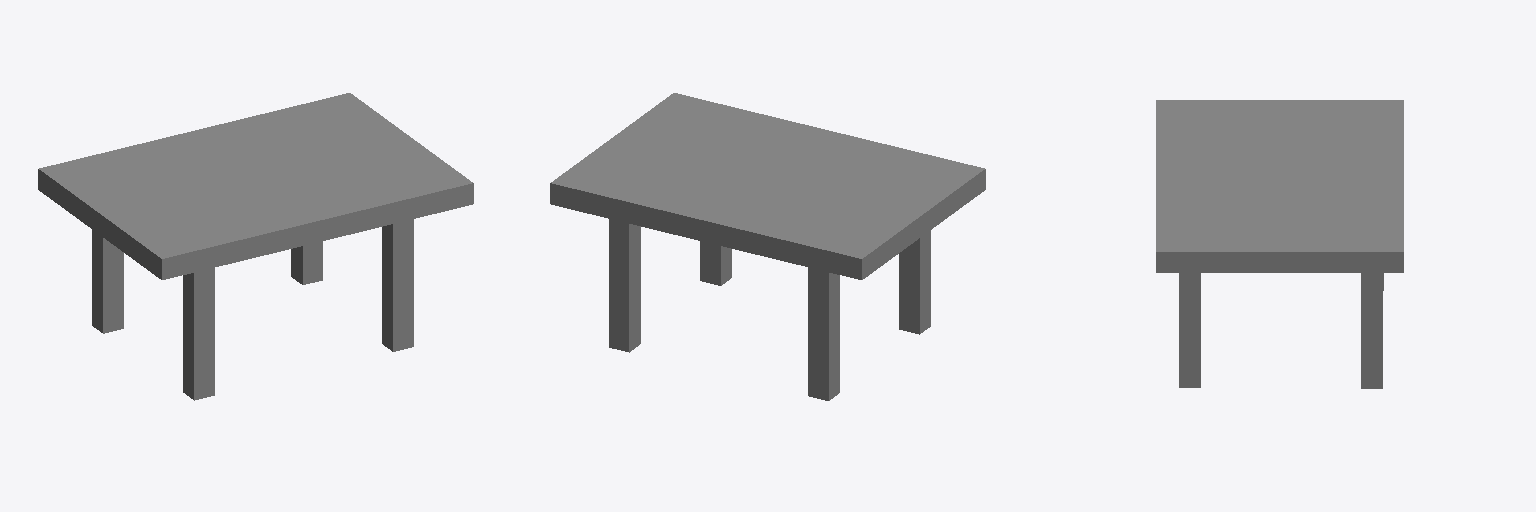
File: desk.obj
The picture shows the model from 3 angles: view 1: azimuth 30°, elevation 25°; view 2: azimuth 150°, elevation 25°; view 3: azimuth 270°, elevation 25°; orthographic projection.
Parts seen in each view (by area): view 1: Box005_0; view 2: Box005_0; view 3: Box005_0.
Boxes of the visible parts, <box> form: Box005_0: <box>38,93,473,400</box>; Box005_0: <box>550,93,985,400</box>; Box005_0: <box>1156,100,1403,388</box>.
Bounding box in the file's own units: 140 × 68.98 × 96.47.